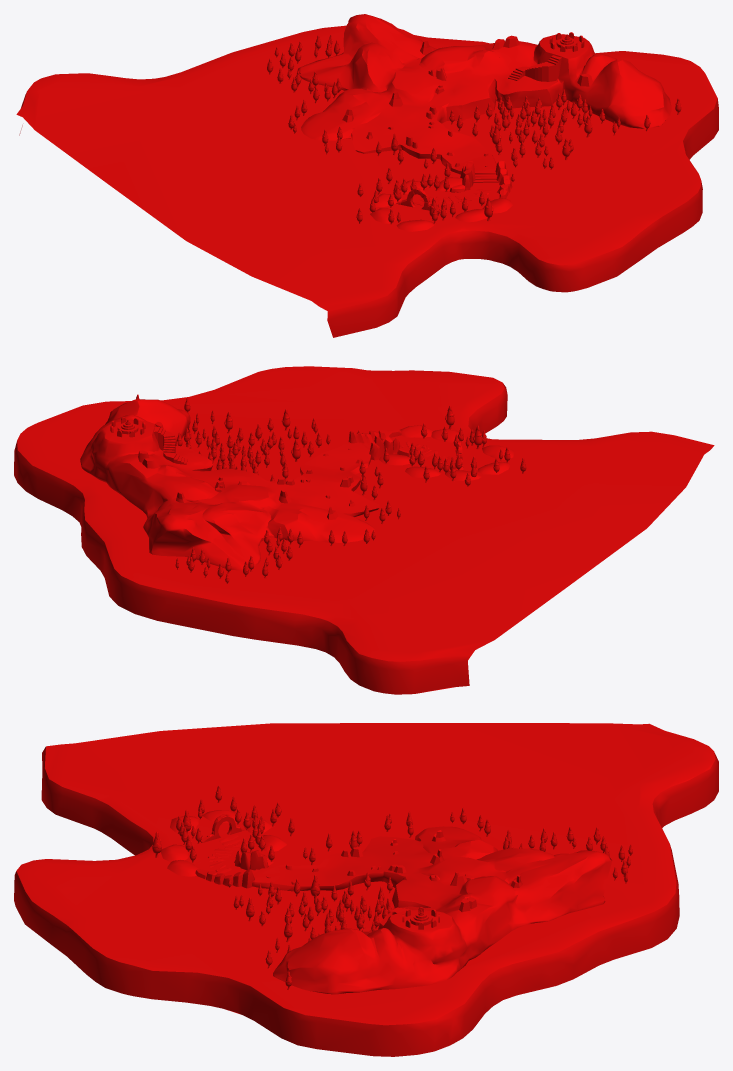
File: Individual_PudgyStone_02.glb
3 renders of one model, top to bottom at view 1: azimuth 30°, elevation 25°; view 2: azimuth 150°, elevation 25°; view 3: azimuth 270°, elevation 25°, orthographic. The views are drawn at different scales.
Visible parts, largest first — view 1: pasted__pasted__Berg, pasted__Environment_PudgyStone, pCube16; view 2: pasted__pasted__Berg, pasted__Environment_PudgyStone, pCube16; view 3: pasted__pasted__Berg, pasted__Environment_PudgyStone.
Boxes of the visible parts, x1,y1,x2,y2 form: pasted__pasted__Berg: [16, 25, 718, 337]; pasted__Environment_PudgyStone: [297, 14, 671, 212]; pCube16: [508, 55, 561, 81]; pasted__pasted__Berg: [14, 366, 714, 694]; pasted__Environment_PudgyStone: [80, 399, 463, 570]; pCube16: [154, 426, 187, 464]; pasted__pasted__Berg: [14, 723, 718, 1056]; pasted__Environment_PudgyStone: [195, 816, 611, 994].
Size of the model in its own units: 109 by 14.29 by 108.
